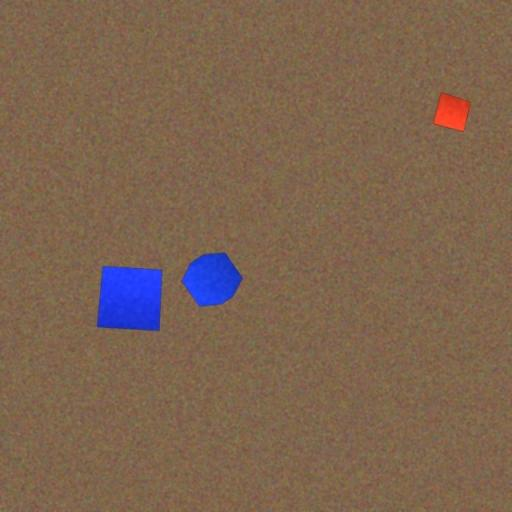BLUE_SQUARE: (96, 266, 163, 332)
RED_SQUARE: (432, 92, 472, 133)
